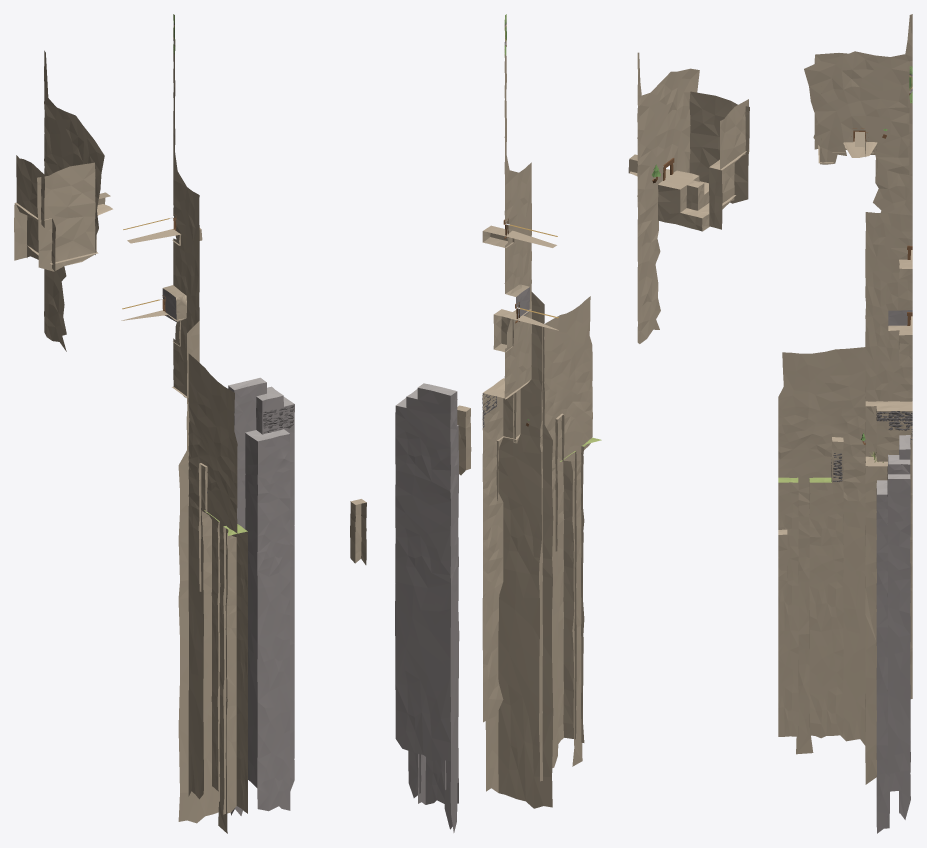
The picture shows the model from 3 angles, left to right: view 1: azimuth 30°, elevation 25°; view 2: azimuth 150°, elevation 25°; view 3: azimuth 270°, elevation 25°; orthographic projection. The views are drawn at different scales.
Parts seen in each view (by area): view 1: 10; view 2: 10; view 3: 10.
Boxes of the visible parts, box(x1,y1,x2,y2) form: 10: box(14, 14, 366, 833); 10: box(395, 14, 749, 832); 10: box(778, 14, 912, 833).
Size of the model in its own units: 28.44 by 72.07 by 12.
Materials: 1 (1 with a texture image).
